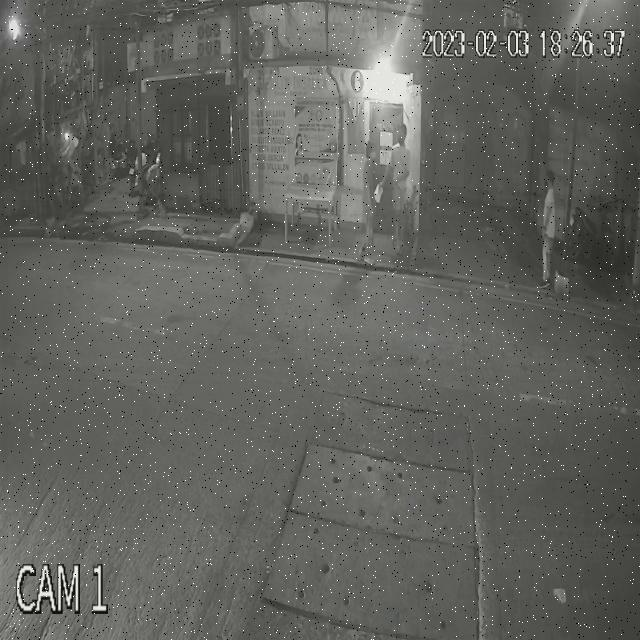garbage_dumping: (372, 175, 386, 206)
